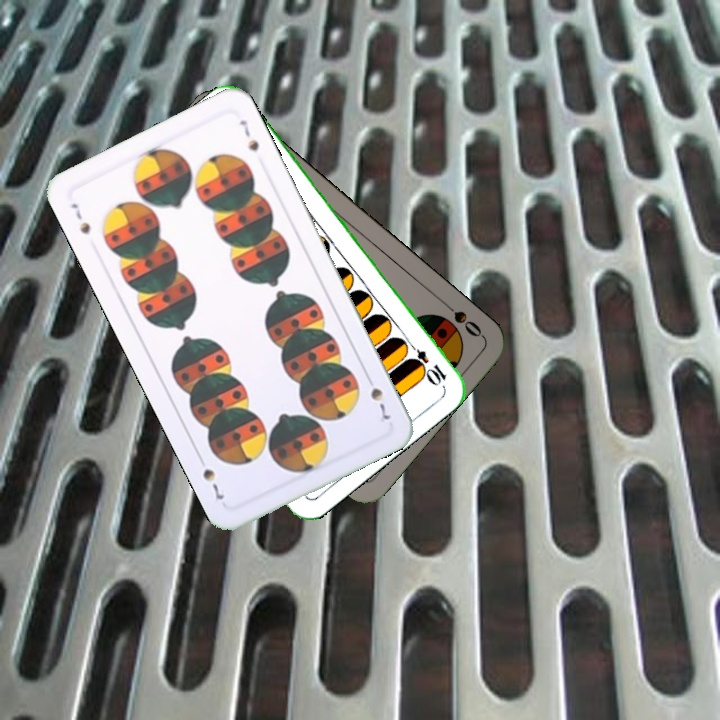E10: (402, 337, 449, 388)
S7: (361, 370, 392, 423), (66, 199, 93, 237)
SO: (437, 295, 485, 340)
